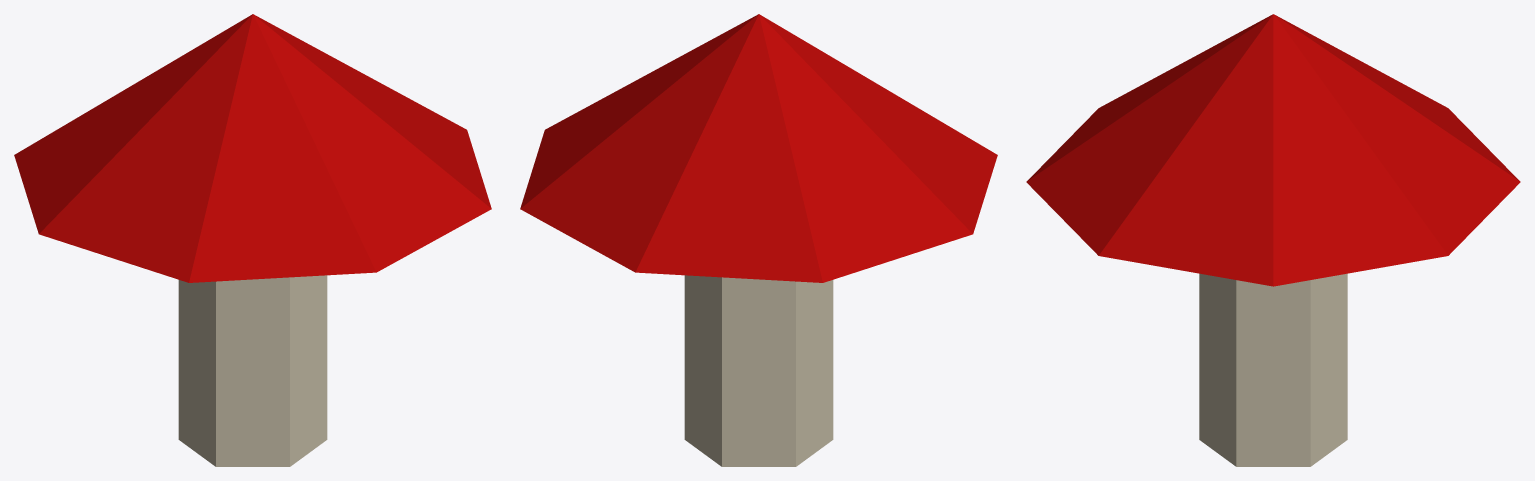
Rendered from mushroom_red.obj.
3 views of the same model, side by side, from view 1: azimuth 30°, elevation 25°; view 2: azimuth 150°, elevation 25°; view 3: azimuth 270°, elevation 25° (orthographic).
Visible parts, largest first — view 1: mushroom_red; view 2: mushroom_red; view 3: mushroom_red.
Boxes of the visible parts, x1=… form: mushroom_red: x1=14, y1=14, x2=491, y2=466; mushroom_red: x1=520, y1=14, x2=997, y2=466; mushroom_red: x1=1026, y1=14, x2=1520, y2=466.
Size of the model in its own units: 0.4 by 0.38 by 0.4.
